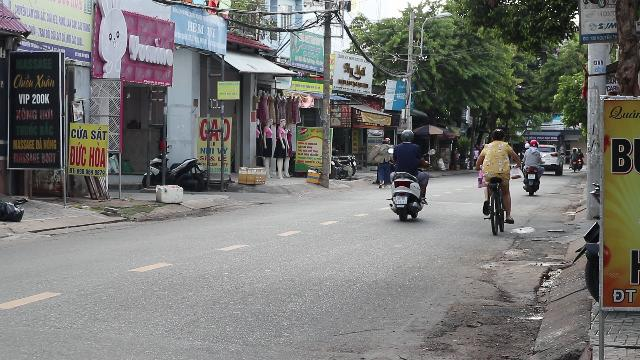helmet: (401, 130, 414, 142)
licenseplate: (395, 196, 407, 204)
motorcyclist: (386, 128, 429, 220)
